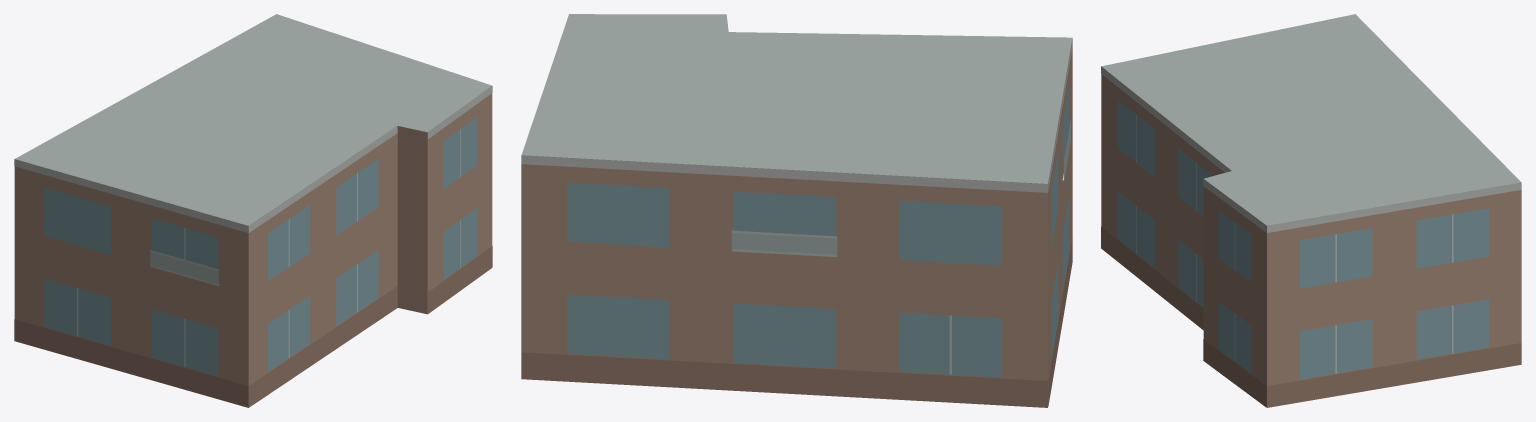
The model's file is survey-upis-32964062.glb.
3 views of the same model, side by side, from view 1: azimuth 30°, elevation 25°; view 2: azimuth 150°, elevation 25°; view 3: azimuth 270°, elevation 25° (orthographic). The views are drawn at different scales.
Parts seen in each view (by area): view 1: survey-upis-32964062.tmp; view 2: survey-upis-32964062.tmp; view 3: survey-upis-32964062.tmp.
Part boxes in pixels (left/top/right/bottom): survey-upis-32964062.tmp: left=14, top=14, right=492, bottom=407; survey-upis-32964062.tmp: left=521, top=14, right=1072, bottom=407; survey-upis-32964062.tmp: left=1101, top=14, right=1521, bottom=407.
Bounding box in the file's own units: 15.22 × 6.1 × 12.77.
